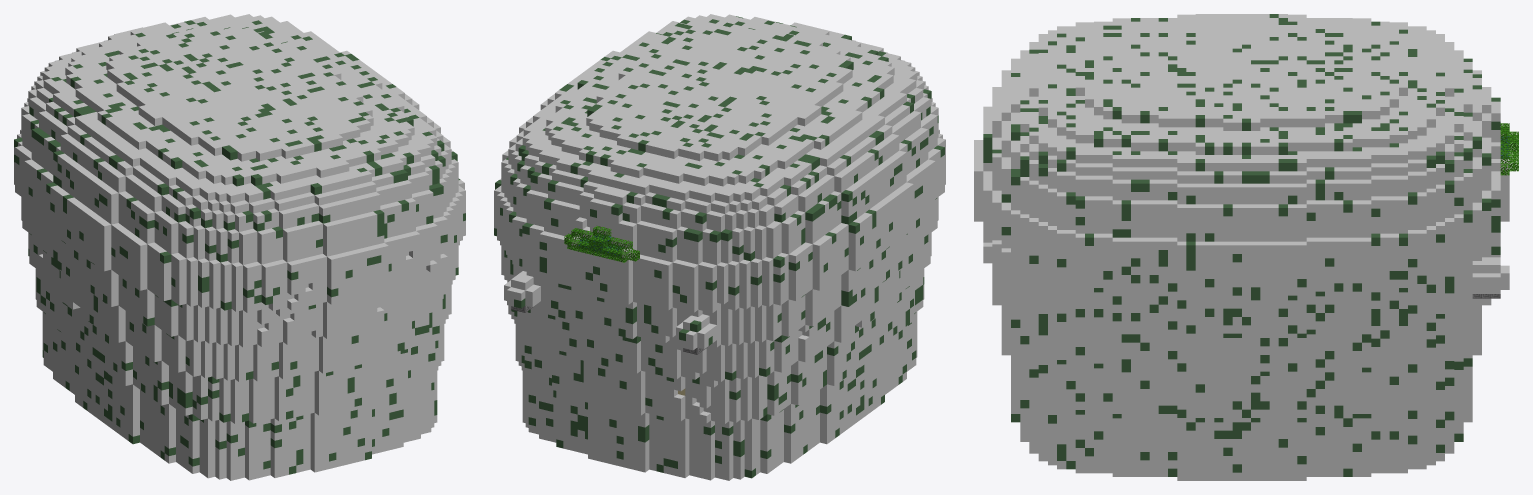
Rendered from minecraft.obj.
The picture shows the model from 3 angles, left to right: view 1: azimuth 30°, elevation 25°; view 2: azimuth 150°, elevation 25°; view 3: azimuth 270°, elevation 25°; orthographic projection. The views are drawn at different scales.
Bounding box in the file's own units: 46 × 40 × 59.
